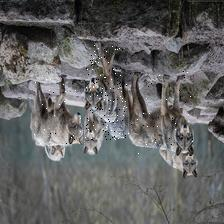WOLF: (122, 70, 193, 155), (85, 44, 127, 139), (32, 77, 83, 143)
